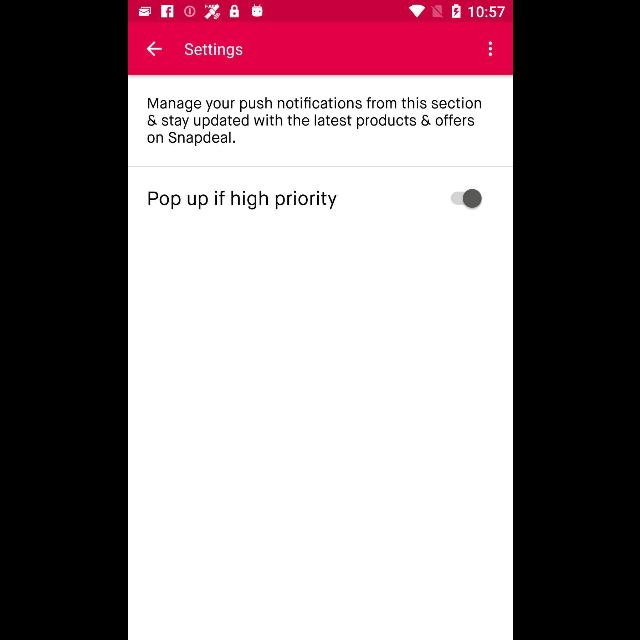icon: (146, 41, 162, 57), (488, 42, 492, 56)
switch: (450, 189, 480, 209)
text: (147, 98, 481, 146), (148, 190, 336, 210), (184, 43, 242, 59)
toolbar: (128, 23, 512, 76)
uppertaskbar: (128, 1, 512, 23)
